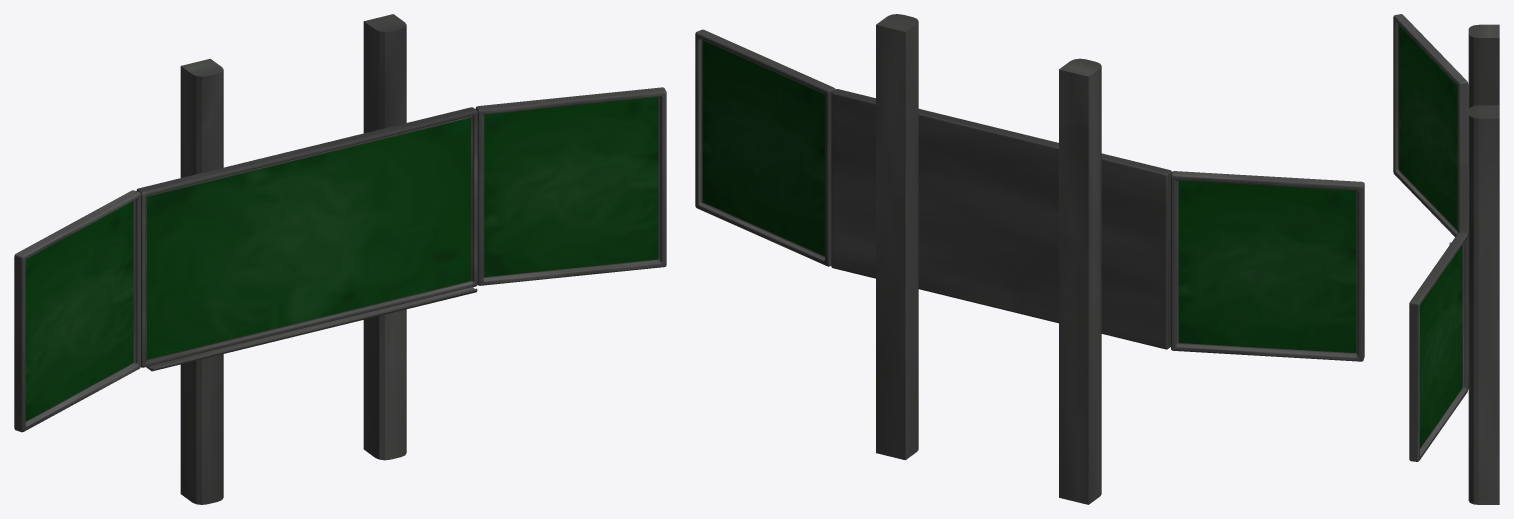
The model's file is Board.fbx.
3 renders of one model, left to right at view 1: azimuth 30°, elevation 25°; view 2: azimuth 150°, elevation 25°; view 3: azimuth 270°, elevation 25°, orthographic. The views are drawn at different scales.
Parts seen in each view (by area): view 1: Board; view 2: Board; view 3: Board.
Part boxes in pixels (x1,y1,x2,y2): Board: [14, 14, 666, 504]; Board: [695, 14, 1364, 504]; Board: [1393, 14, 1499, 504].
Size of the model in its own units: 391 by 243 by 60.55.
